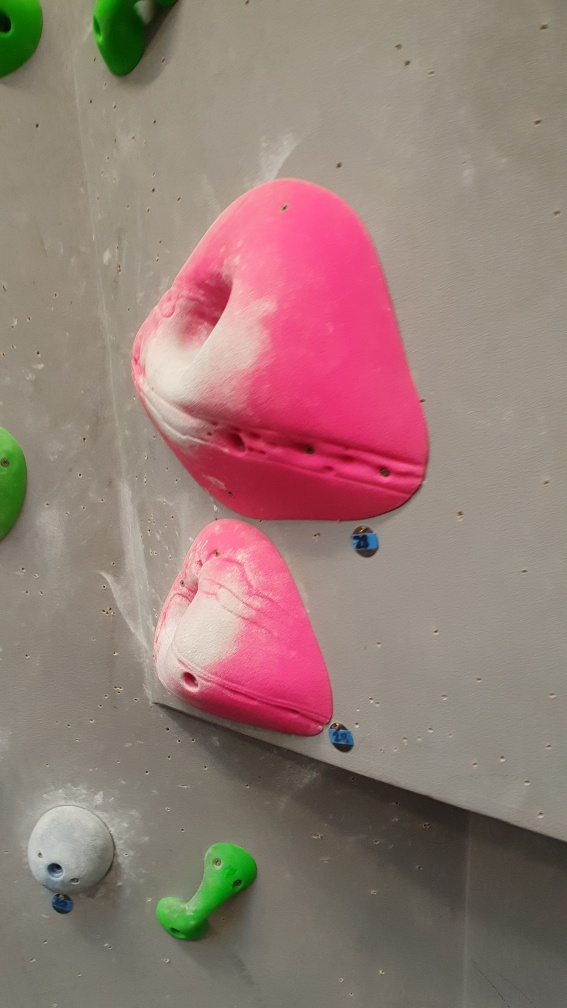Hand Start: (324, 716, 362, 760), (351, 519, 383, 560), (44, 889, 74, 915)
Pocket: (129, 179, 430, 526), (149, 509, 341, 741)
Sloper: (28, 794, 121, 897)
